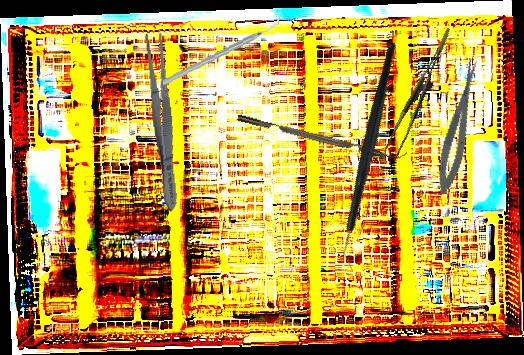Chopper: (271, 39, 471, 275), (237, 105, 408, 166), (158, 13, 286, 87)
Dressing Forceps: (141, 30, 184, 213)
Micro Scissor: (431, 56, 487, 197)
Tissue Forceps: (370, 27, 472, 162)
